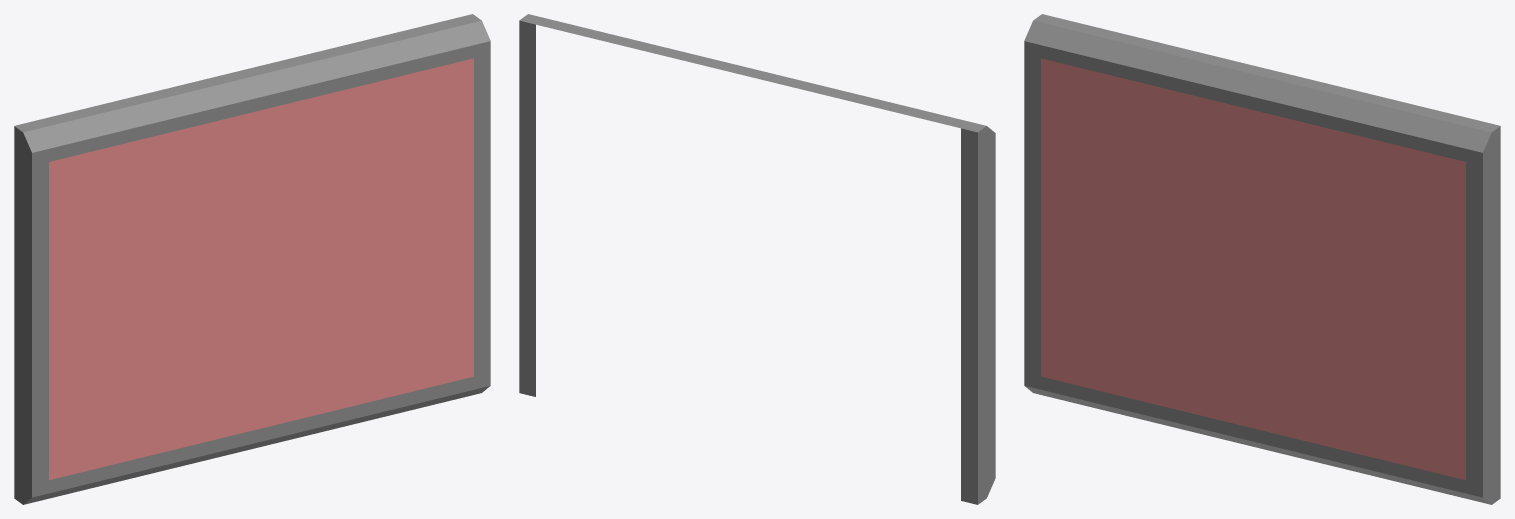
File: S_Envi_Fyz_AD_15g.gltf
The picture shows the model from 3 angles, left to right: view 1: azimuth 30°, elevation 25°; view 2: azimuth 150°, elevation 25°; view 3: azimuth 330°, elevation 25°; orthographic projection.
Visible parts, largest first — view 1: S_Envi_Fyz_AD_15g; view 2: S_Envi_Fyz_AD_15g; view 3: S_Envi_Fyz_AD_15g.
Boxes of the visible parts, x1,y1,x2,y2 form: S_Envi_Fyz_AD_15g: (14, 14, 490, 504); S_Envi_Fyz_AD_15g: (519, 14, 995, 504); S_Envi_Fyz_AD_15g: (1024, 14, 1500, 504).
Bounding box in the file's own units: 6.08 × 4.72 × 0.4117.
